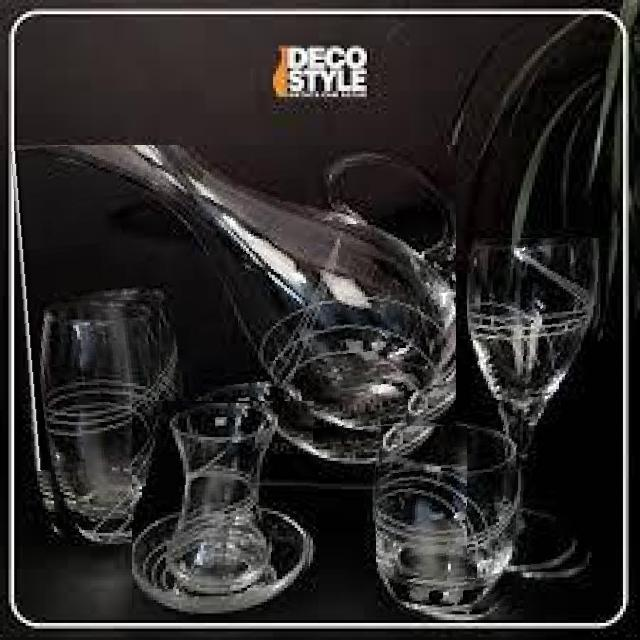Glass: (10, 145, 456, 471), (467, 238, 603, 580), (133, 401, 314, 620), (32, 298, 160, 544), (376, 427, 534, 620)
